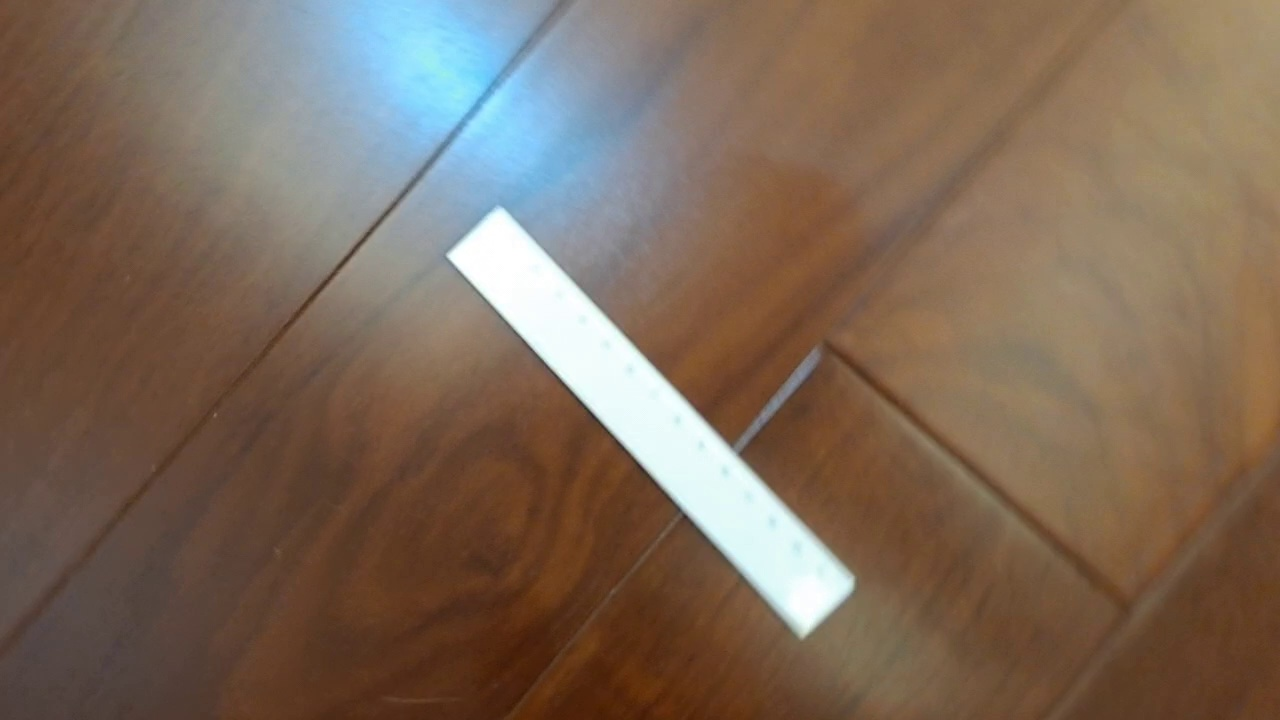ruler: (442, 204, 857, 643)
